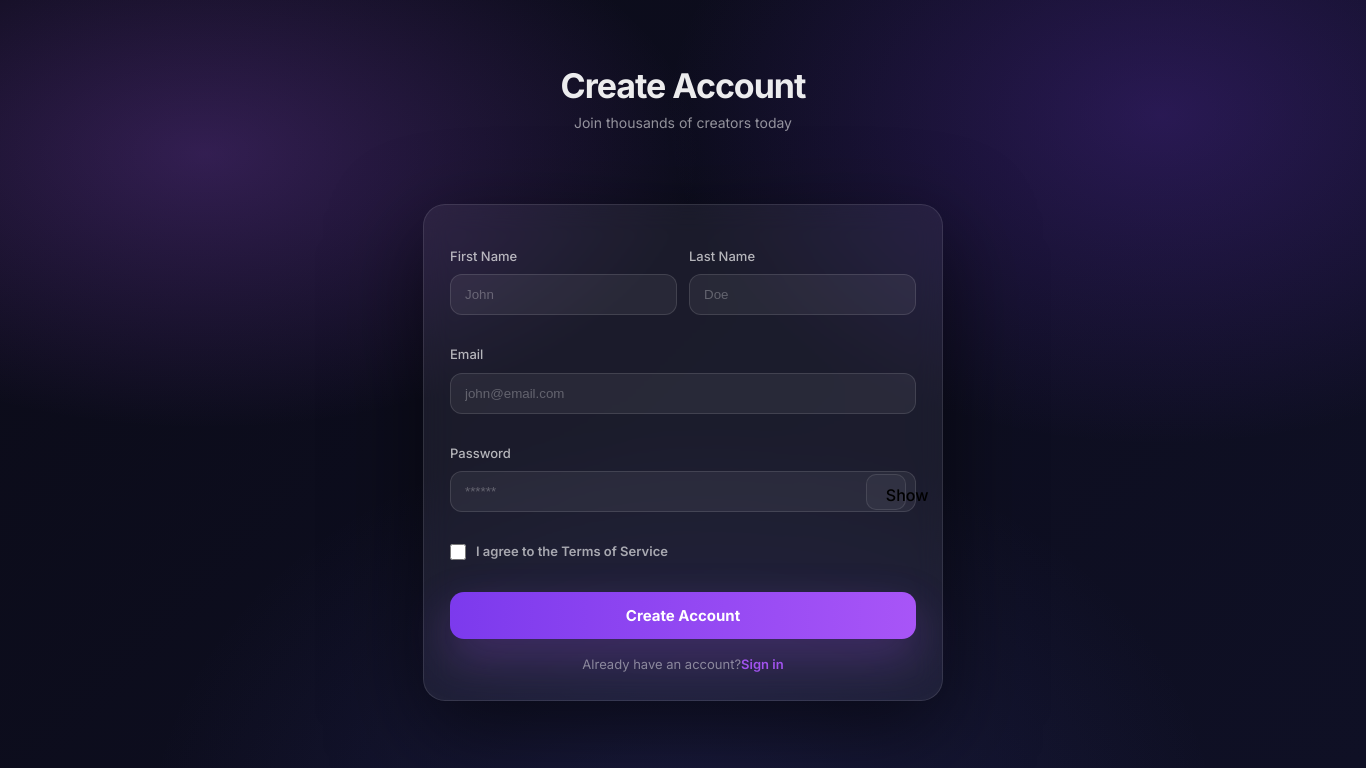
Test: Signup › toggles password visibility
Step 1. Click the button "Show" → (886, 492), box [866,474,906,510]
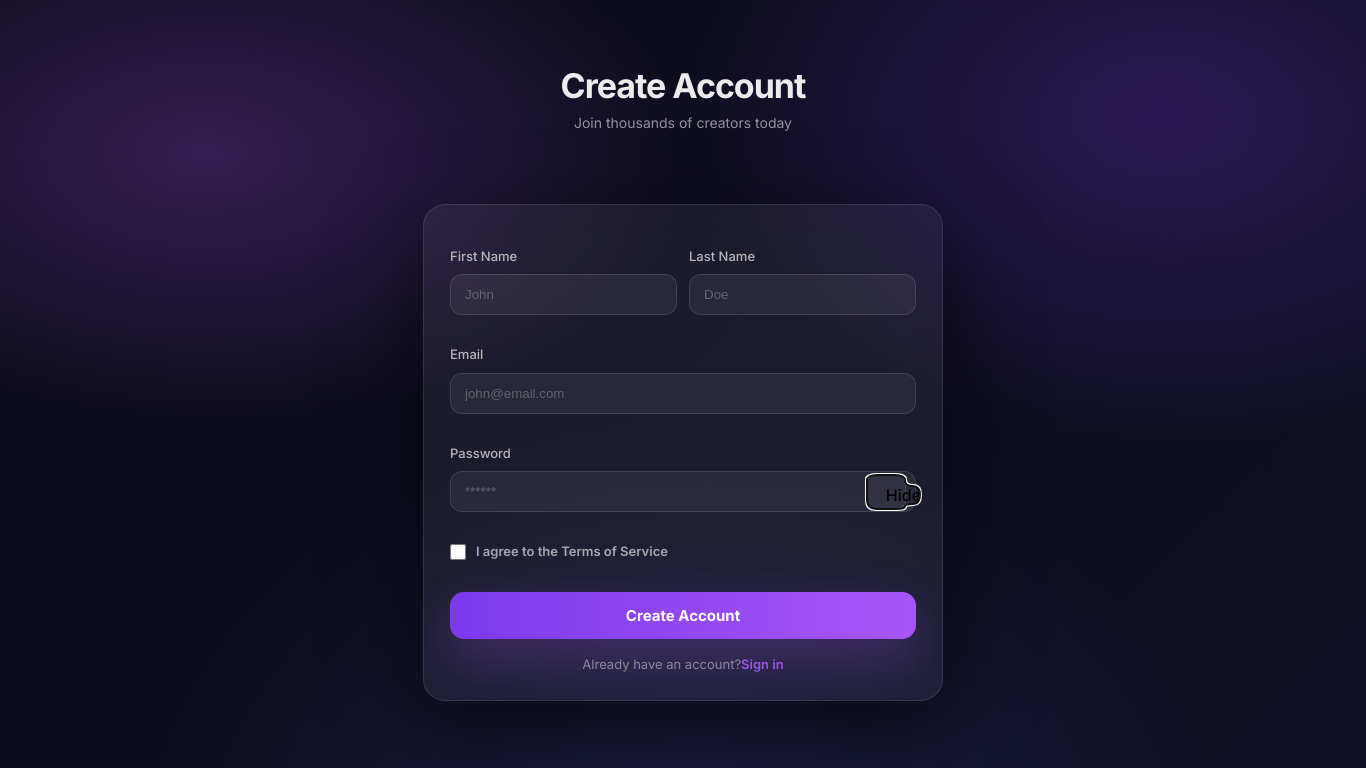
Expected: the button "Hide" is shown, [866,474,906,510]
